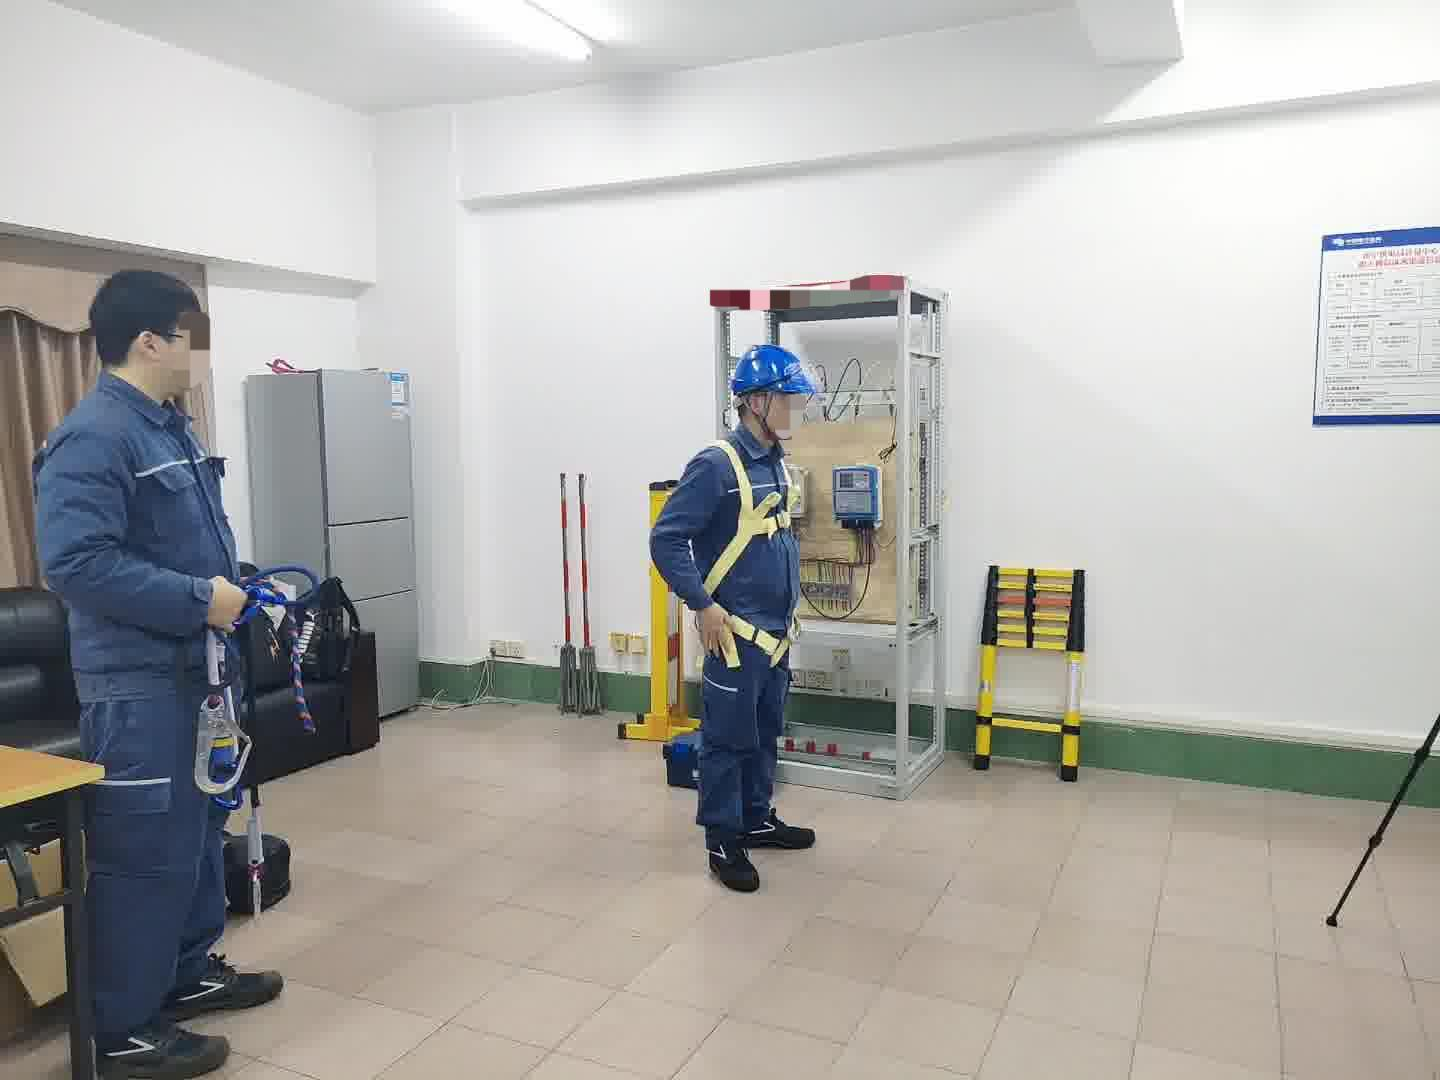halt: (730, 346, 821, 444)
inear: (742, 391, 780, 433)
noear: (129, 321, 177, 380)
unhalt: (88, 270, 218, 400)
